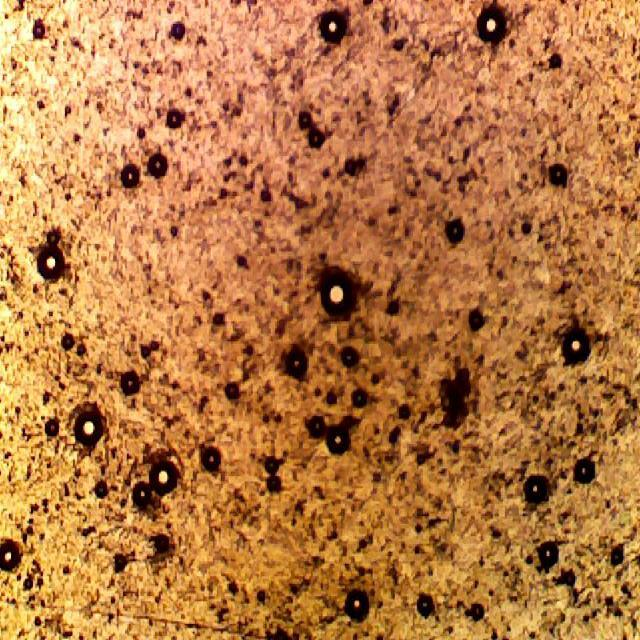microbeads: (316, 270, 360, 322), (339, 584, 376, 630), (70, 408, 102, 452), (559, 328, 593, 368), (476, 8, 506, 48), (34, 245, 66, 282), (147, 460, 179, 496), (320, 9, 348, 46)
